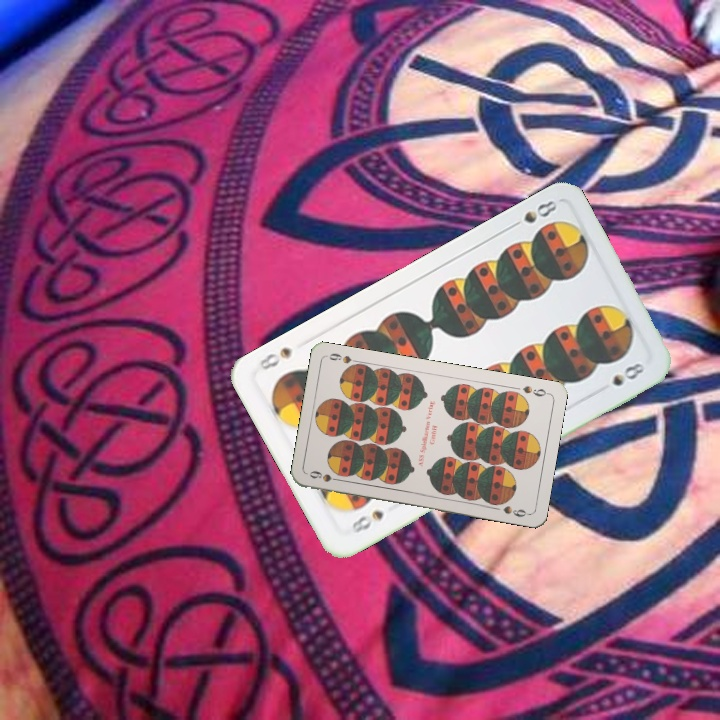S8: (505, 196, 560, 232), (347, 506, 386, 536)
S9: (305, 467, 345, 485), (519, 381, 551, 399)
